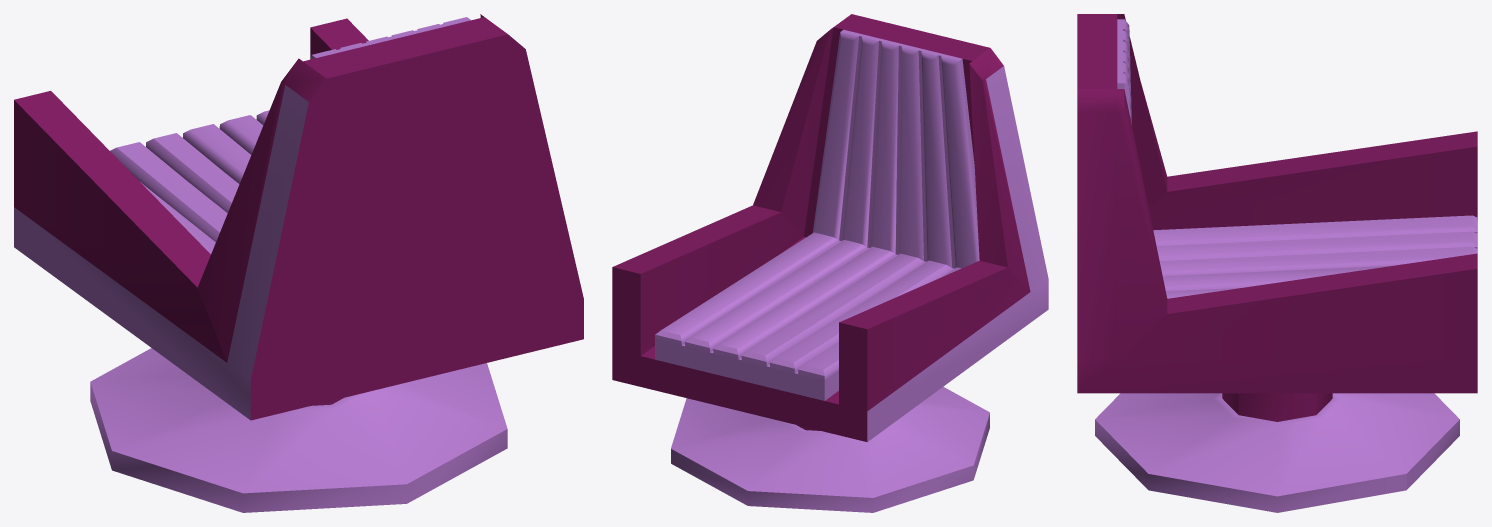
The model's file is loungeChair.glb.
3 views of the same model, side by side, from view 1: azimuth 30°, elevation 25°; view 2: azimuth 150°, elevation 25°; view 3: azimuth 270°, elevation 25° (orthographic). The views are drawn at different scales.
Parts seen in each view (by area): view 1: loungeChair; view 2: loungeChair; view 3: loungeChair.
Boxes of the visible parts, bbox=[...] form: loungeChair: bbox=[14, 14, 583, 512]; loungeChair: bbox=[612, 14, 1048, 512]; loungeChair: bbox=[1077, 14, 1477, 512].
Size of the model in its own units: 0.9554 by 1.11 by 1.05.
